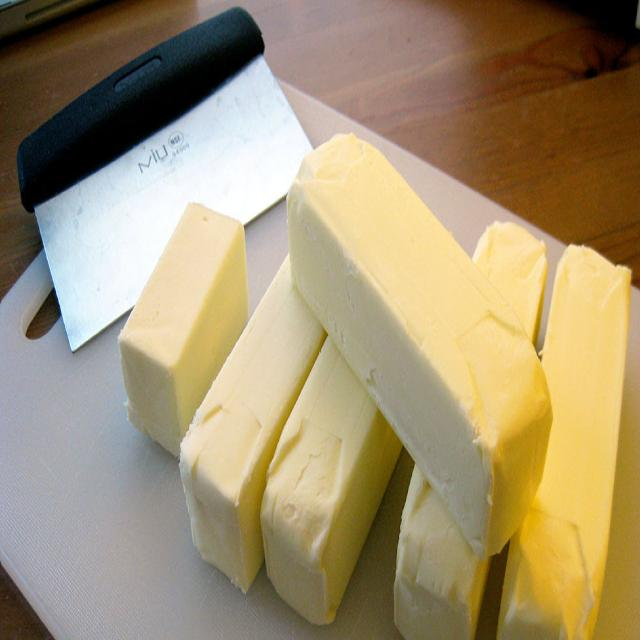Butter: (285, 127, 551, 558), (395, 224, 547, 640), (493, 246, 630, 640), (183, 246, 322, 584), (266, 333, 402, 629), (120, 209, 248, 442)
